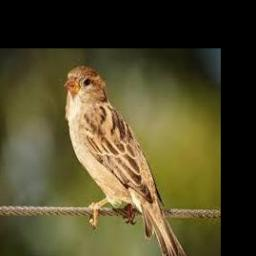Sparrow: (65, 65, 187, 256)
